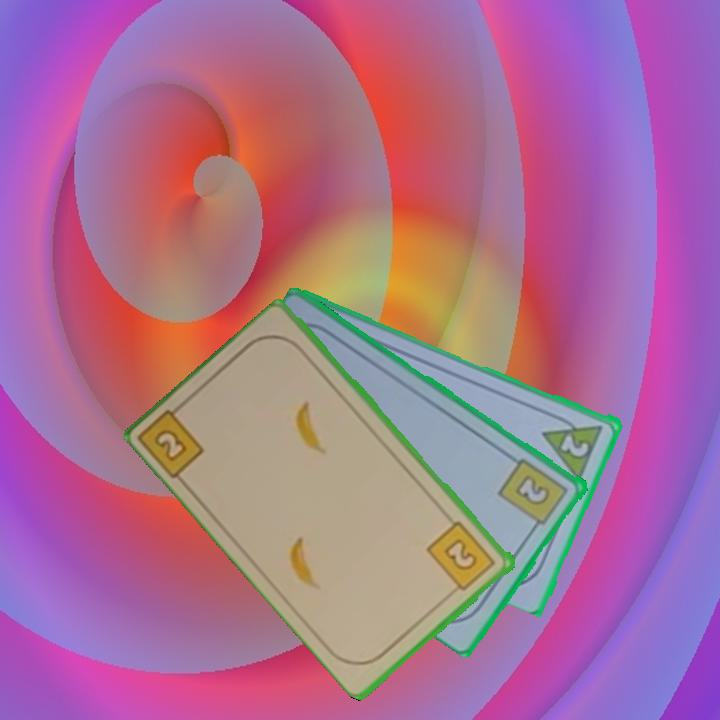2b: (495, 455, 572, 534), (424, 517, 499, 598), (138, 397, 208, 482)
2p: (557, 430, 593, 460)
